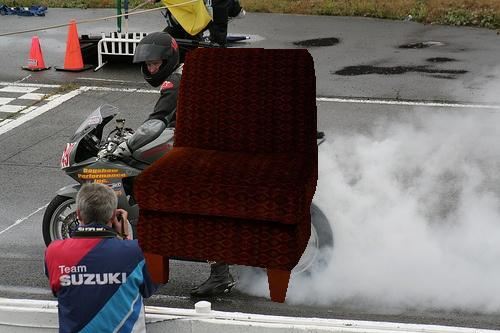tampered: (134, 48, 318, 303)
